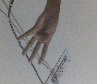hand: (16, 6, 61, 66)
